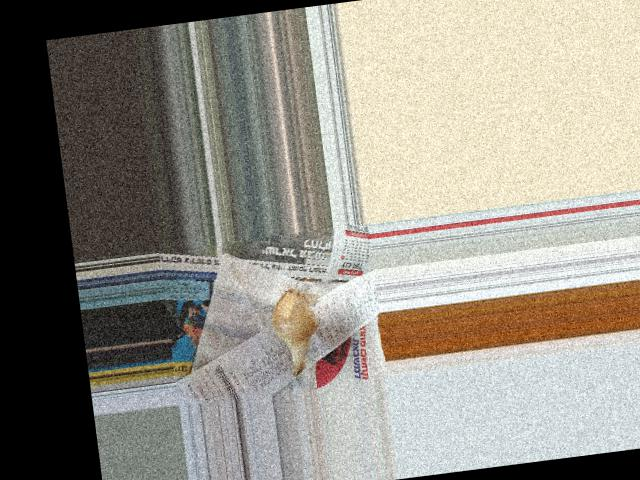onion: (267, 290, 318, 355)
